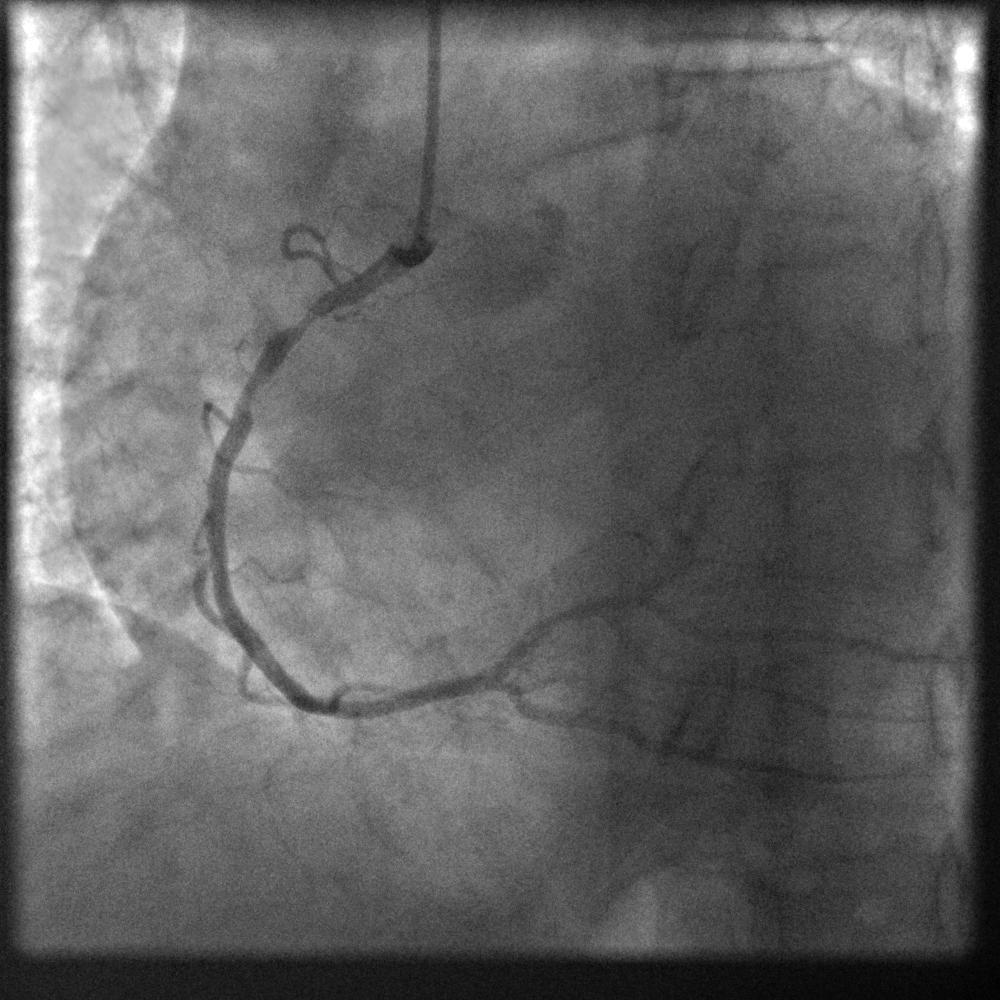Stenosis: (269, 301, 333, 349)
